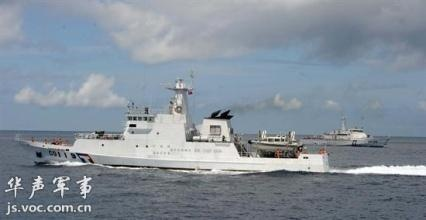otherboat: (310, 115, 393, 147), (251, 129, 308, 148)
warship: (12, 79, 335, 176)
